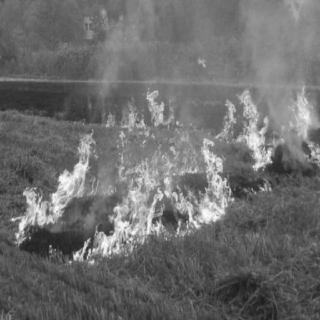Fire: (11, 75, 319, 268), (196, 54, 208, 68)
Smoke: (69, 1, 319, 93)
